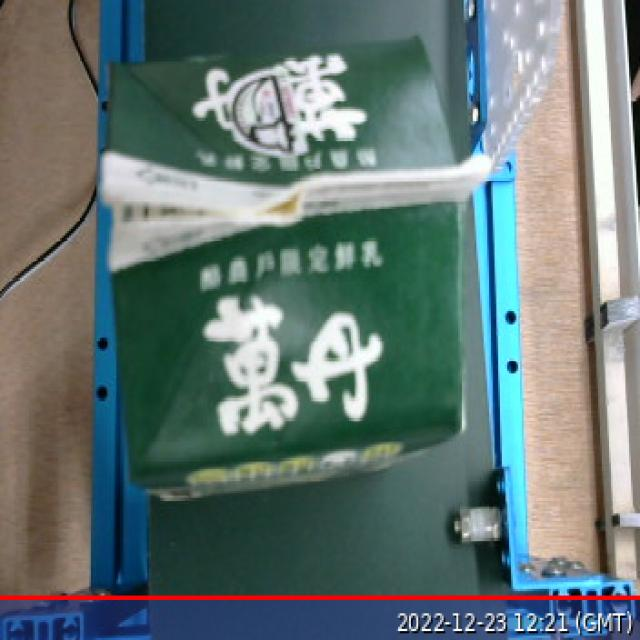non_white_jug: (96, 30, 495, 499)
